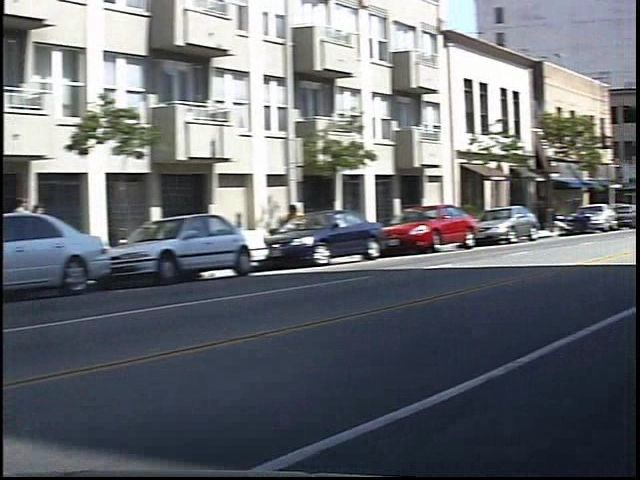person: (25, 188, 49, 267), (45, 198, 64, 264)
